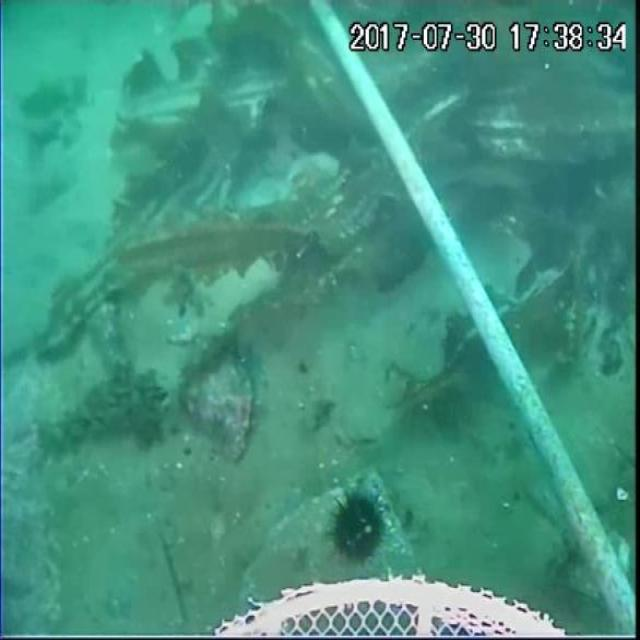echinus: (332, 491, 386, 564)
waterweeds: (111, 0, 640, 420)
